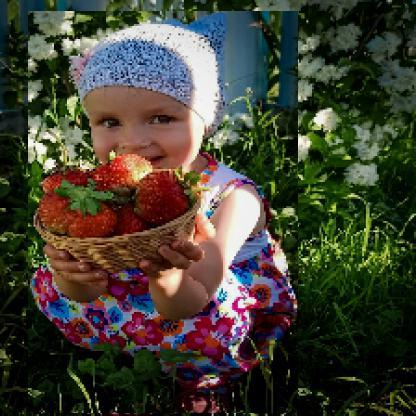child: (29, 12, 300, 415)
